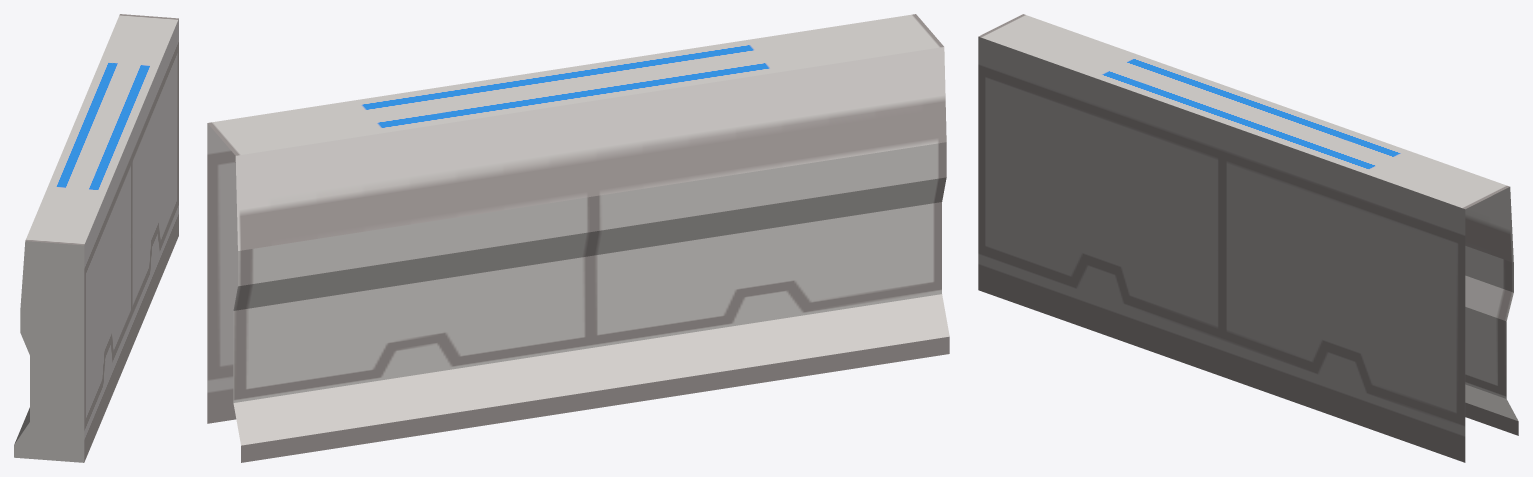
File: 墙体（拉伸版）.FBX
The picture shows the model from 3 angles, left to right: view 1: azimuth 30°, elevation 25°; view 2: azimuth 150°, elevation 25°; view 3: azimuth 270°, elevation 25°; orthographic projection. The views are drawn at different scales.
Parts seen in each view (by area): view 1: WM_Wall_01_c056; view 2: WM_Wall_01_c056; view 3: WM_Wall_01_c056.
Boxes of the visible parts, x1,y1,x2,y2 form: WM_Wall_01_c056: (14,14,178,462); WM_Wall_01_c056: (207,14,949,462); WM_Wall_01_c056: (978,14,1518,462).
Size of the model in its own units: 1829 by 1083 by 2092.
